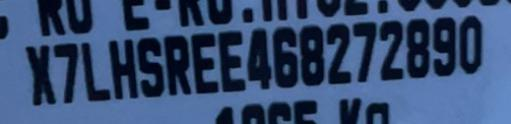letter: (187, 30, 221, 96), (23, 43, 59, 105), (107, 36, 141, 100), (215, 28, 248, 93), (78, 38, 112, 101), (50, 39, 82, 104), (135, 35, 166, 99), (271, 23, 300, 91), (296, 21, 326, 86), (163, 31, 193, 96), (245, 25, 274, 92), (322, 20, 352, 84), (350, 18, 379, 82), (456, 11, 484, 76), (430, 13, 458, 78), (404, 15, 432, 79), (377, 17, 405, 81)
